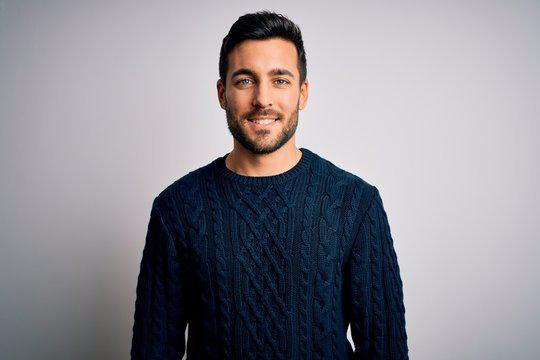Sober: (220, 43, 297, 147)
